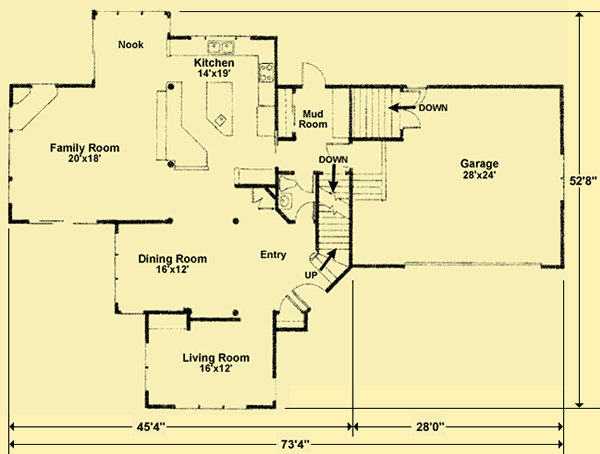door: (290, 278, 327, 311), (401, 89, 424, 129), (297, 60, 327, 90), (246, 186, 275, 212), (277, 292, 303, 319)
kitchen_bar: (204, 79, 238, 141)
large_sink: (278, 174, 299, 191)
small_sink: (278, 191, 293, 212)
stairs: (307, 169, 357, 284), (347, 83, 404, 145)
twin_sink: (205, 39, 236, 56)
